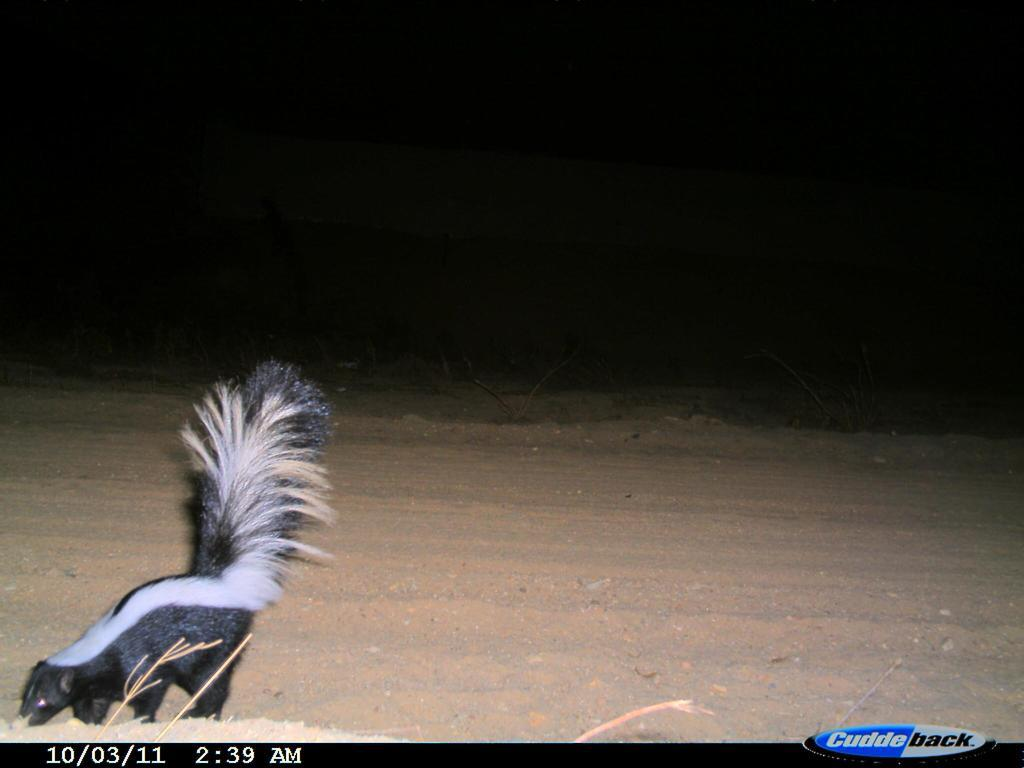skunk: (17, 355, 341, 734)
